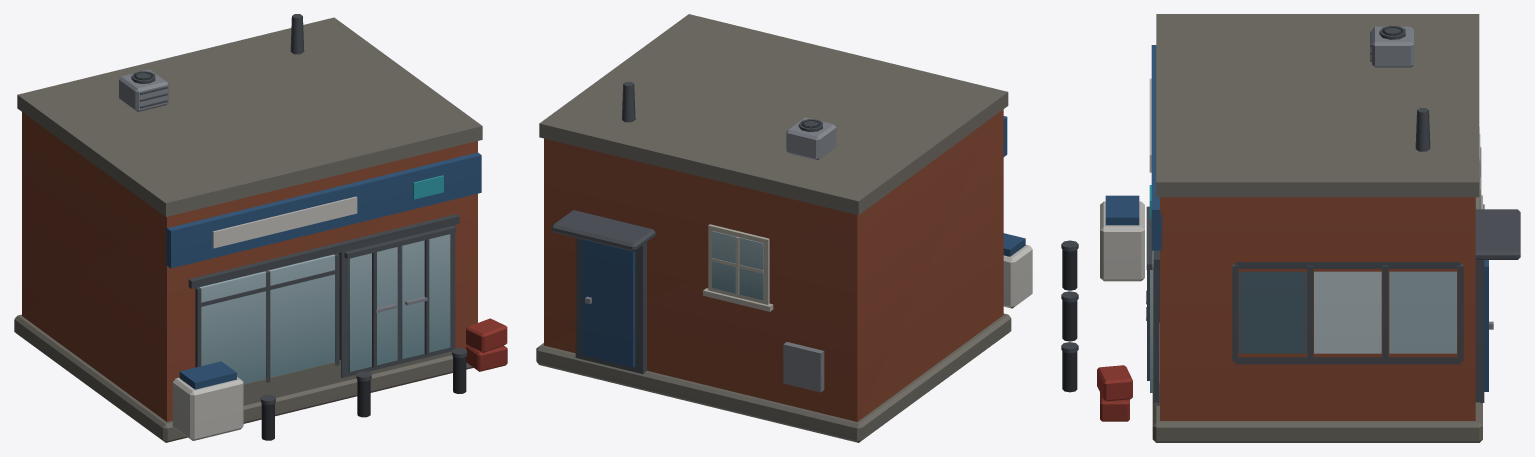
The model's file is convenience-store-01.glb.
3 renders of one model, left to right at view 1: azimuth 30°, elevation 25°; view 2: azimuth 150°, elevation 25°; view 3: azimuth 270°, elevation 25°, orthographic. The views are drawn at different scales.
Parts seen in each view (by area): view 1: convenience_store_01; view 2: convenience_store_01; view 3: convenience_store_01.
Part boxes in pixels (left/top/right/bottom): convenience_store_01: left=14, top=14, right=507, bottom=442; convenience_store_01: left=536, top=14, right=1032, bottom=442; convenience_store_01: left=1061, top=14, right=1520, bottom=442.
Size of the model in its own units: 5.4 by 4.4 by 6.11.
